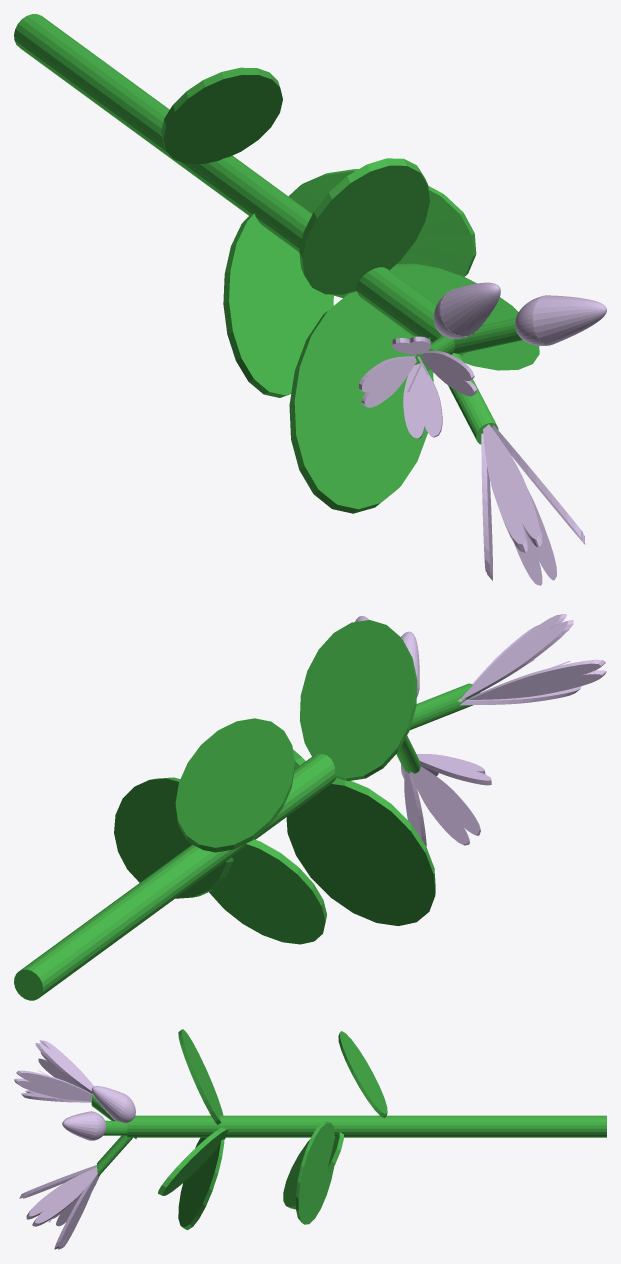
The model's file is tinker.obj.
3 views of the same model, one above another, from view 1: azimuth 30°, elevation 25°; view 2: azimuth 150°, elevation 25°; view 3: azimuth 270°, elevation 25° (orthographic). The views are drawn at different scales.
Visible parts, largest first — view 1: group_0_4634441, group_0_13877221; view 2: group_0_4634441, group_0_13877221; view 3: group_0_4634441, group_0_13877221.
Boxes of the visible parts, box(x1,y1,x2,y2) form: group_0_4634441: box(14, 14, 539, 513); group_0_13877221: box(358, 282, 606, 585); group_0_4634441: box(14, 620, 479, 1000); group_0_13877221: box(355, 614, 606, 846); group_0_4634441: box(91, 1029, 606, 1230); group_0_13877221: box(14, 1040, 135, 1249).
Size of the model in its own units: 30.41 by 30.44 by 80.56.
